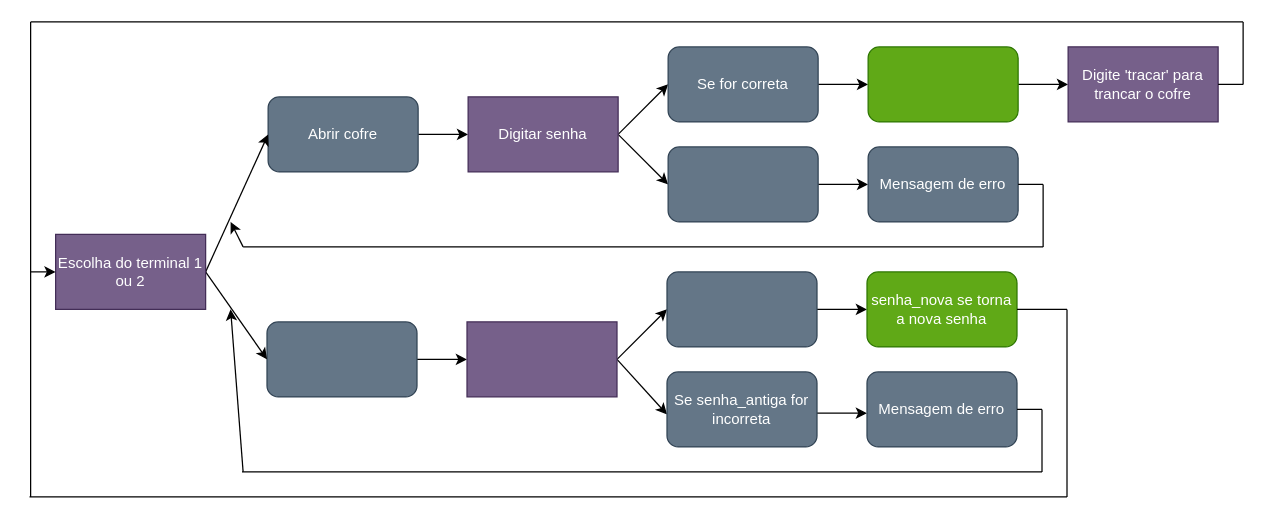
The diagram is 1266 pixels wide and 520 high, and some of its shapes have lost their labels. The centre of each missing label's shape, as x and y in pixels:
Abre o cofre: (942,84)
Digitar senha_antiga + senha_nova: (541,359)
Se for incorreta: (742,184)
Se senha_antiga for correta: (741,309)
Trocar de senha: (341,359)
